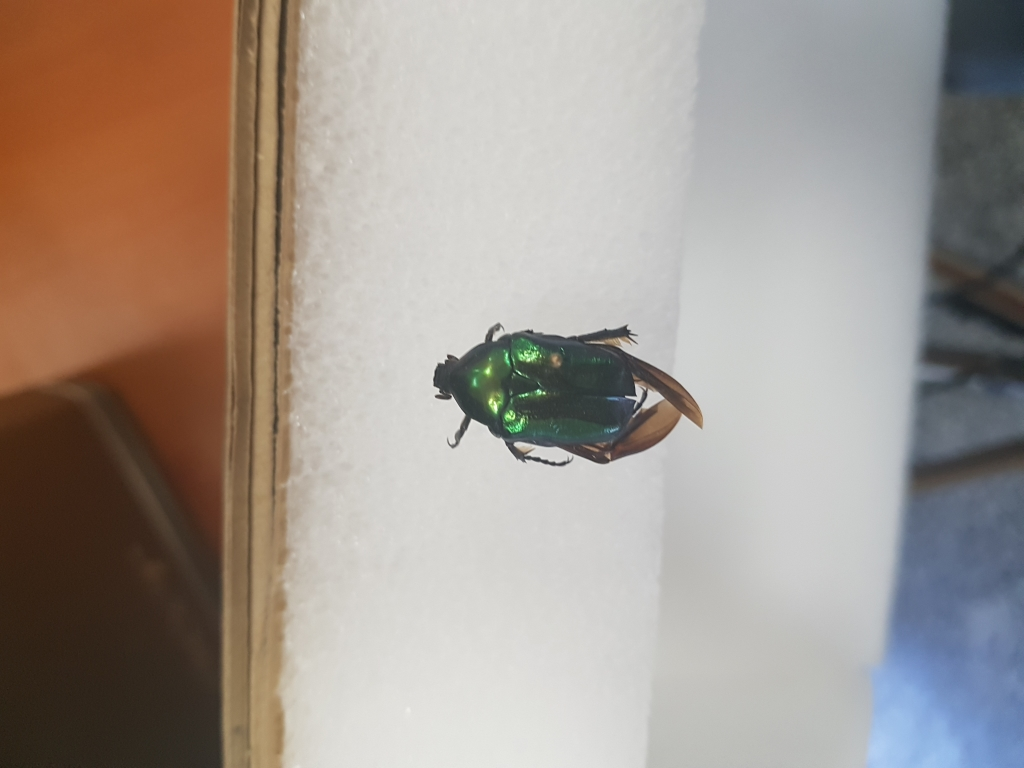Protaetia_angustata_angustata: (425, 306, 715, 481)
